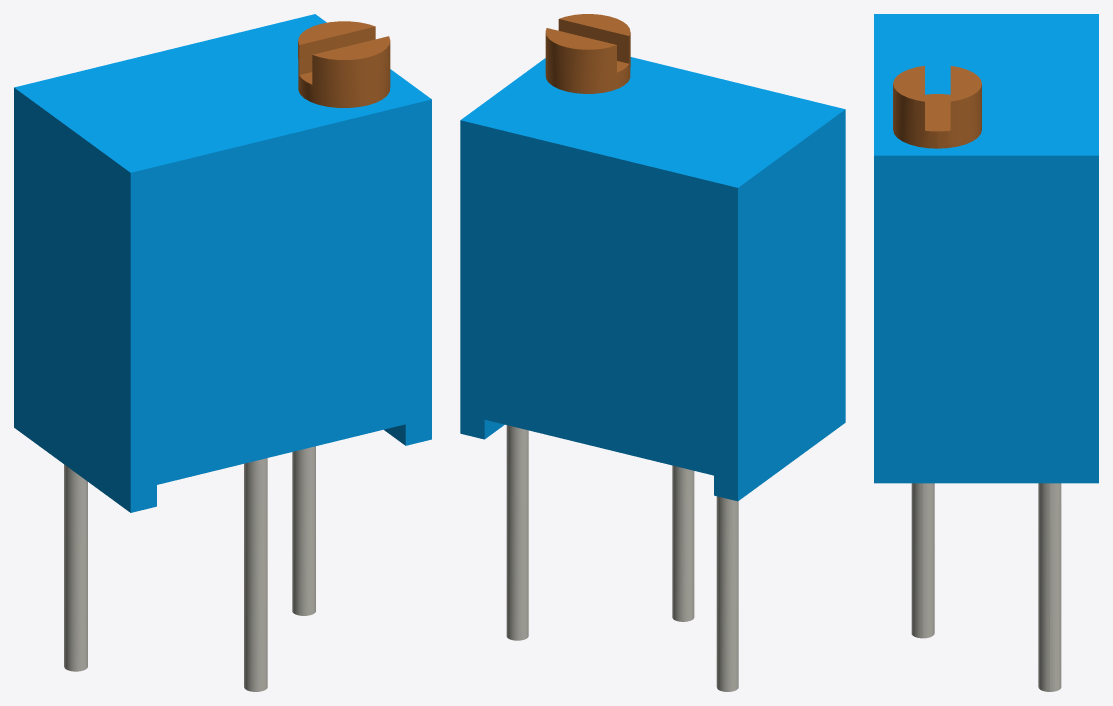
Rendered from kc-potentiometer_bourns_3266w_vertical.glb.
The picture shows the model from 3 angles, left to right: view 1: azimuth 30°, elevation 25°; view 2: azimuth 150°, elevation 25°; view 3: azimuth 270°, elevation 25°; orthographic projection. The views are drawn at different scales.
Parts seen in each view (by area): view 1: 0_0.4166666666666667_1_0, 0.6666666666666666_0.6666666666666666_0.5833333333333334_0.8, 0.5_0.16666666666666666_0_0; view 2: 0_0.4166666666666667_1_0, 0.6666666666666666_0.6666666666666666_0.5833333333333334_0.8, 0.5_0.16666666666666666_0_0; view 3: 0_0.4166666666666667_1_0, 0.6666666666666666_0.6666666666666666_0.5833333333333334_0.8, 0.5_0.16666666666666666_0_0.
Part boxes in pixels (x1,y1,x2,y2): 0_0.4166666666666667_1_0: [14, 14, 431, 512]; 0.6666666666666666_0.6666666666666666_0.5833333333333334_0.8: [64, 446, 315, 691]; 0.5_0.16666666666666666_0_0: [298, 21, 390, 107]; 0_0.4166666666666667_1_0: [460, 57, 845, 501]; 0.6666666666666666_0.6666666666666666_0.5833333333333334_0.8: [506, 425, 738, 691]; 0.5_0.16666666666666666_0_0: [545, 14, 630, 93]; 0_0.4166666666666667_1_0: [874, 14, 1098, 483]; 0.6666666666666666_0.6666666666666666_0.5833333333333334_0.8: [911, 483, 1061, 691]; 0.5_0.16666666666666666_0_0: [893, 65, 981, 148].
Size of the model in its own units: 0.671 by 1.31 by 0.45.
